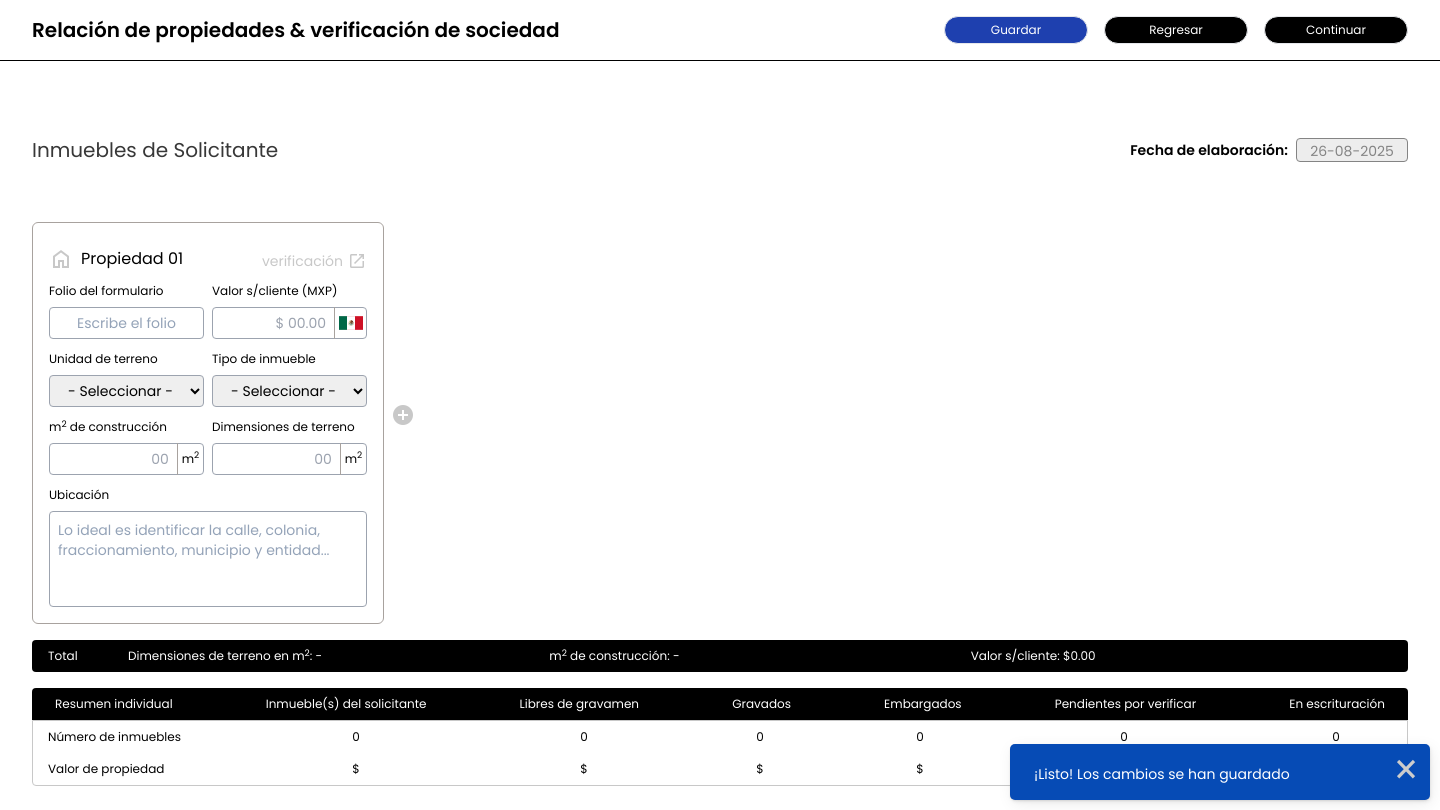
Scenario: PropertyVerification › Profile Especialista de Financiamiento › it deletes the property form when clicking the delete (x) button when there is more than one property
In the field labelled "Folio del formulario": point(126, 323) [49,307,204,339], type "1000"
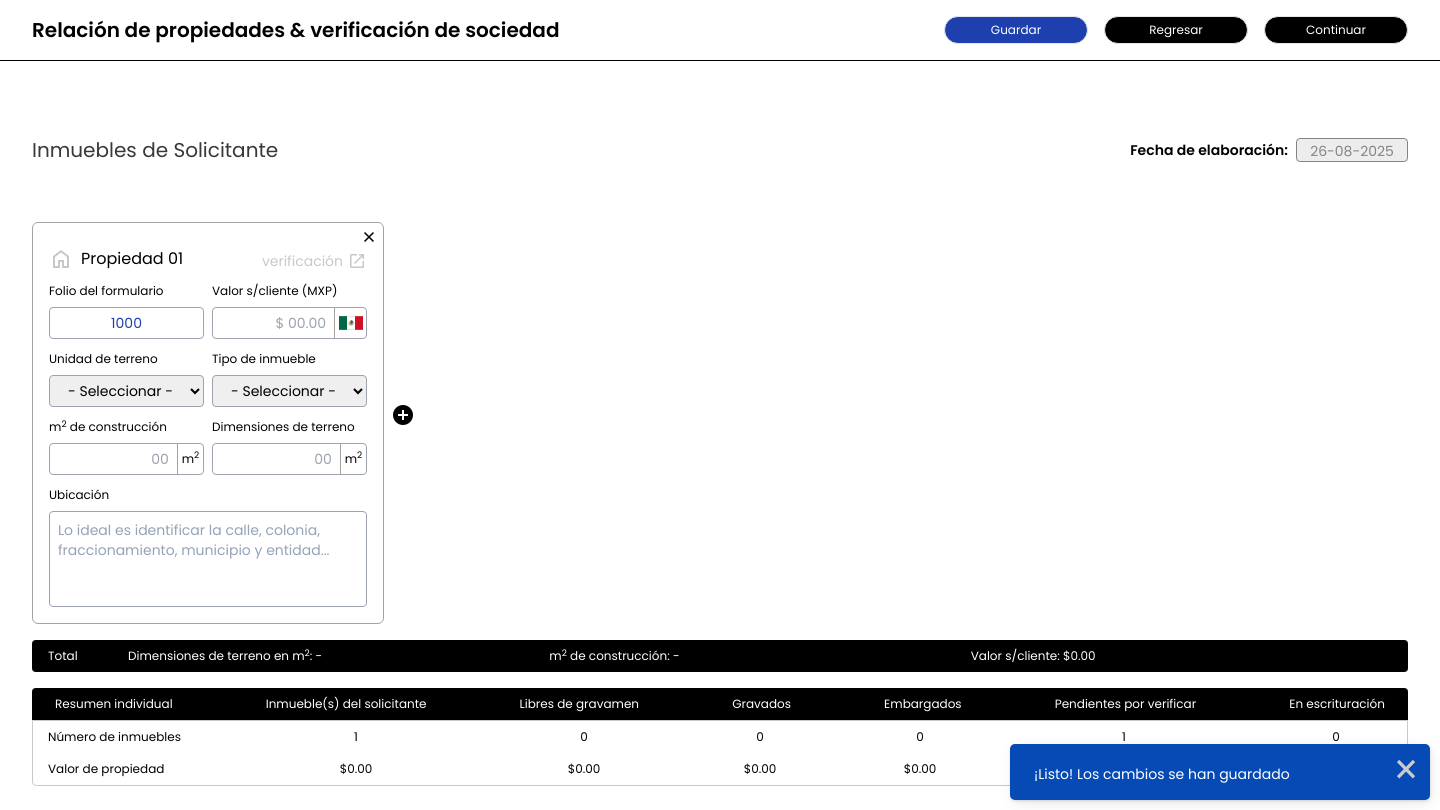
Click the button named "add_circle": point(403, 415) [391,403,415,427]
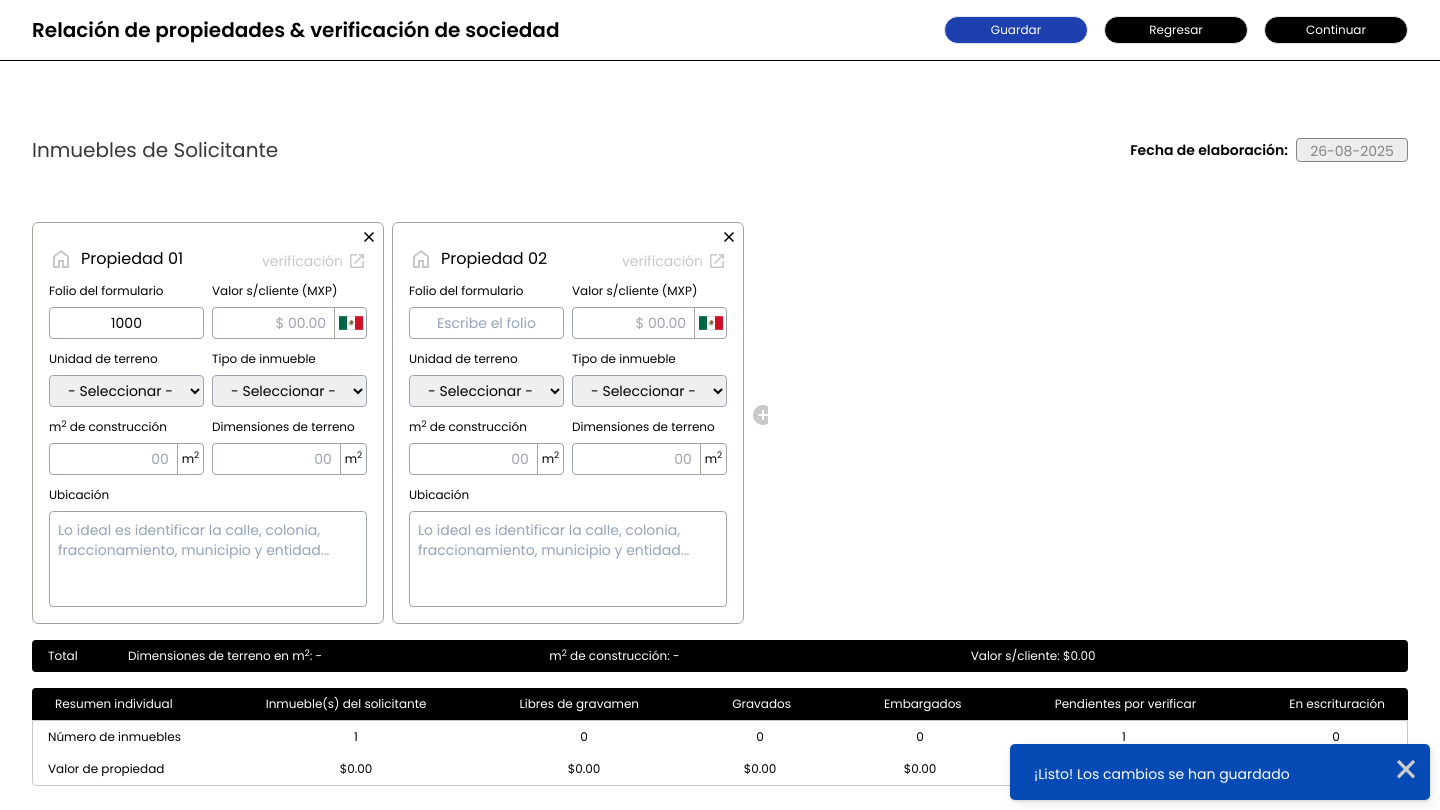
Now the text "Propiedad 02" is shown, box [441,247,547,271]
Click the 2nd button named "close": point(729, 237) [719,227,739,247]
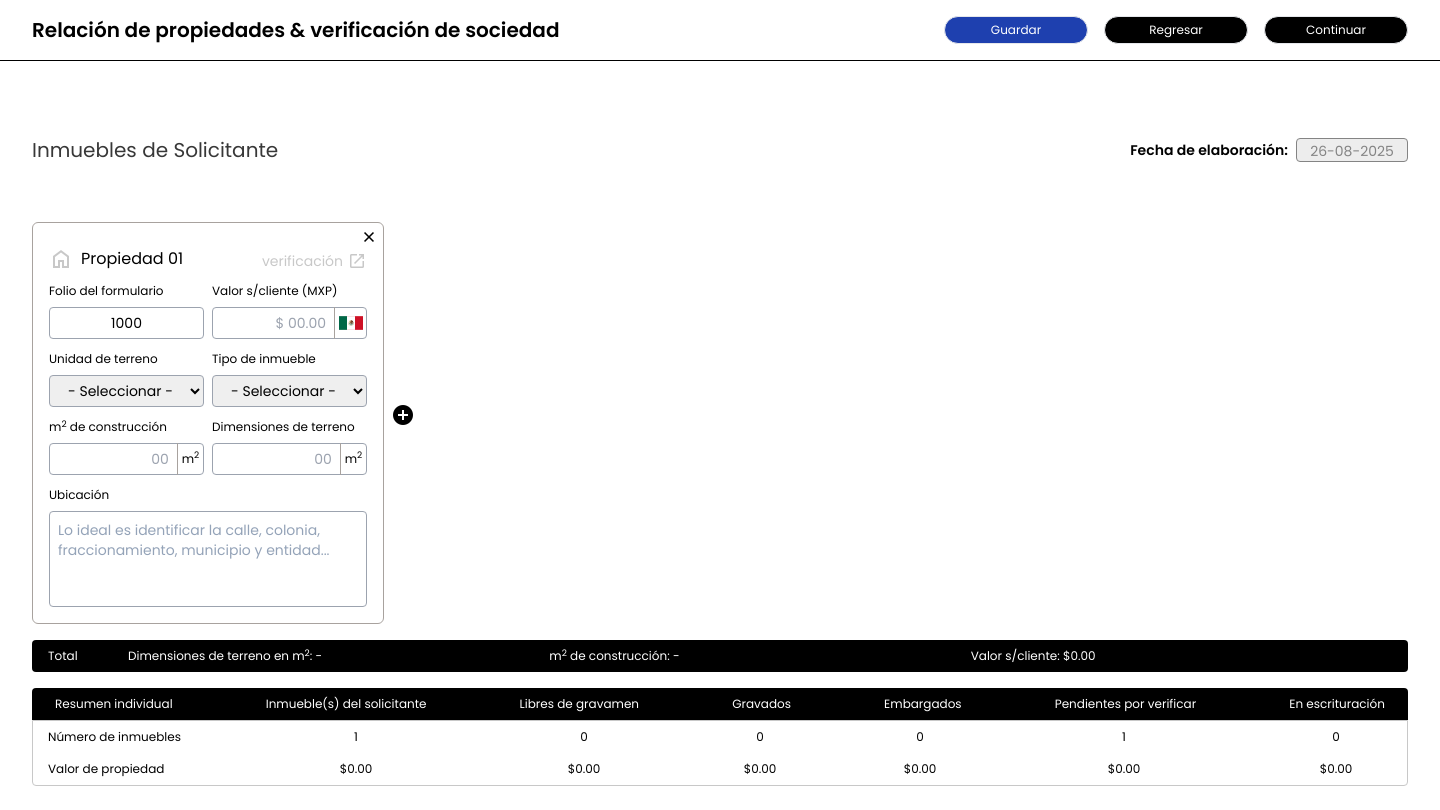
Now the text "Propiedad 02" is gone
